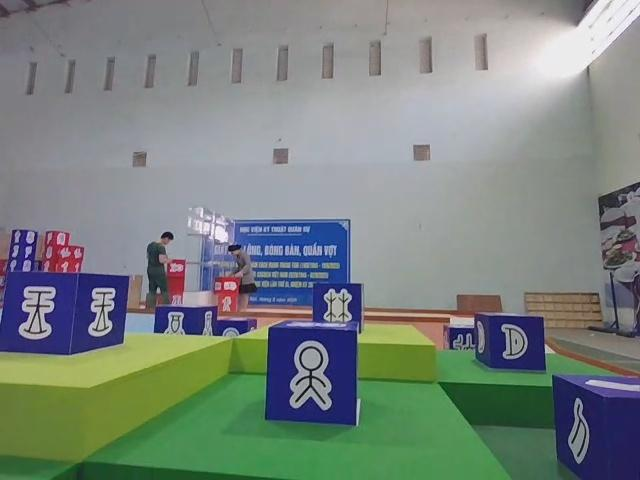R2 Real Blue: (1, 273, 129, 360), (264, 321, 359, 428), (550, 376, 638, 480), (473, 312, 547, 372), (314, 284, 365, 336), (157, 305, 220, 337), (439, 322, 475, 349)
